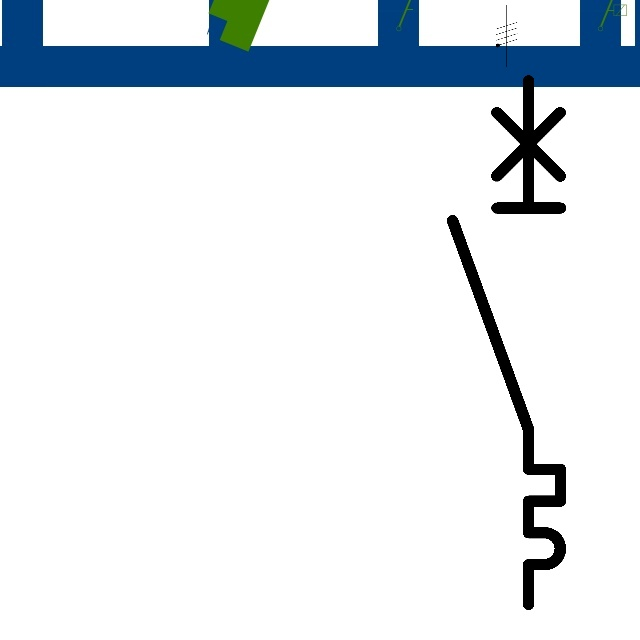interruptor_termomagnetico: (439, 67, 574, 618)
